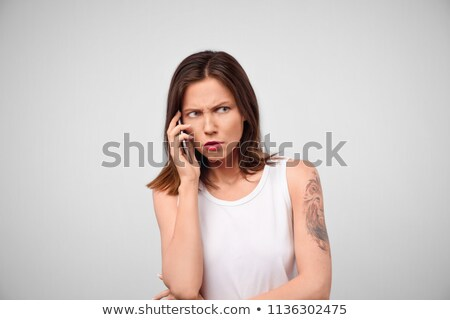phone: (162, 105, 196, 166)
talk: (161, 100, 241, 177)
